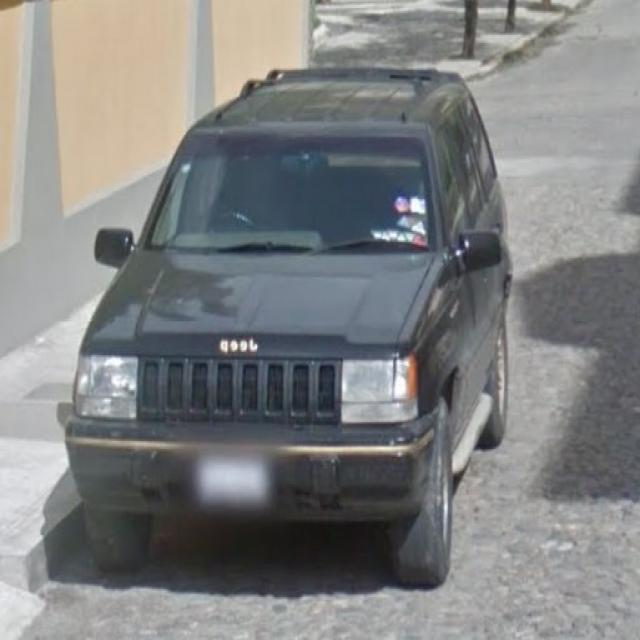car: (60, 65, 514, 588)
